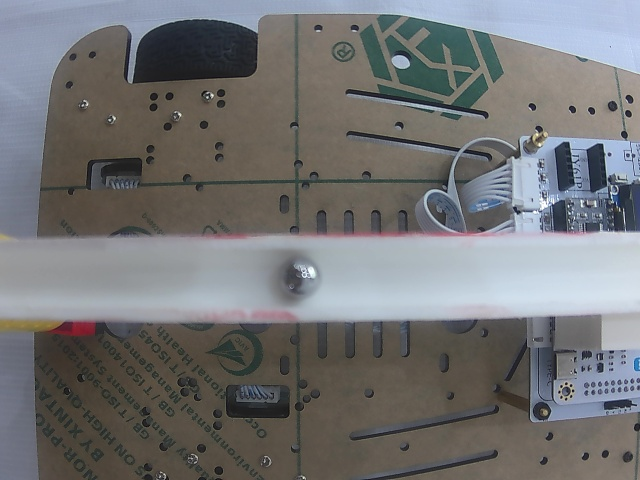steelball: (277, 256, 322, 299)
